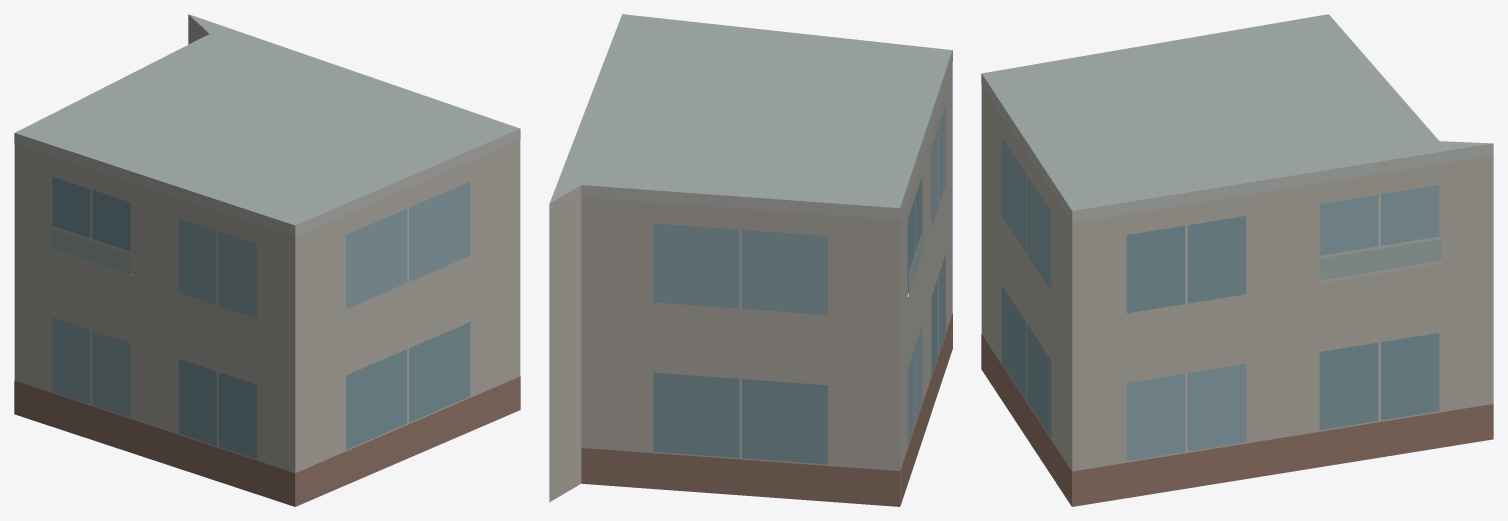
The model's file is survey-upis-32879890.glb.
3 views of the same model, side by side, from view 1: azimuth 30°, elevation 25°; view 2: azimuth 150°, elevation 25°; view 3: azimuth 270°, elevation 25° (orthographic). The views are drawn at different scales.
Parts seen in each view (by area): view 1: survey-upis-32879890.tmp; view 2: survey-upis-32879890.tmp; view 3: survey-upis-32879890.tmp.
Boxes of the visible parts, x1,y1,x2,y2 form: survey-upis-32879890.tmp: [14, 14, 520, 506]; survey-upis-32879890.tmp: [549, 14, 952, 506]; survey-upis-32879890.tmp: [981, 14, 1493, 506].
Bounding box in the file's own units: 8.72 × 6.1 × 9.57.
